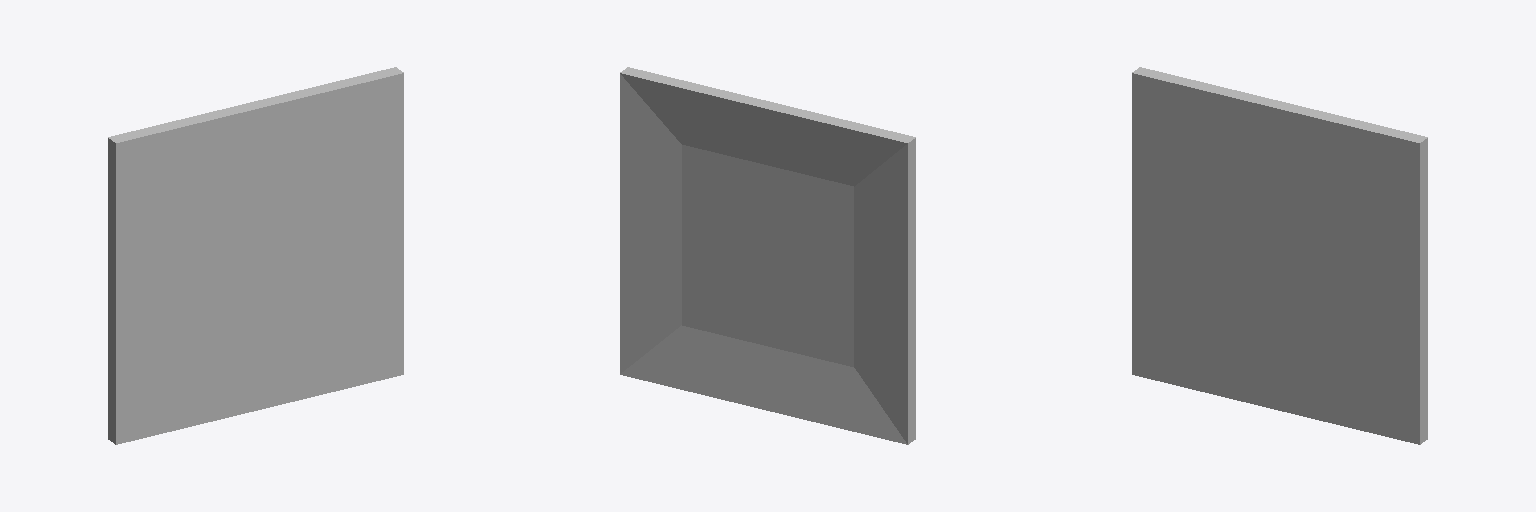
Rendered from room_cadre.obj.
3 views of the same model, side by side, from view 1: azimuth 30°, elevation 25°; view 2: azimuth 150°, elevation 25°; view 3: azimuth 330°, elevation 25° (orthographic).
Parts seen in each view (by area): view 1: Plane.009; view 2: Plane.009; view 3: Plane.009.
Boxes of the visible parts, box(x1,y1,x2,y2) form: Plane.009: box(108, 67, 403, 444); Plane.009: box(620, 67, 915, 444); Plane.009: box(1132, 67, 1427, 444).
Bounding box in the file's own units: 2 × 2 × 0.1.